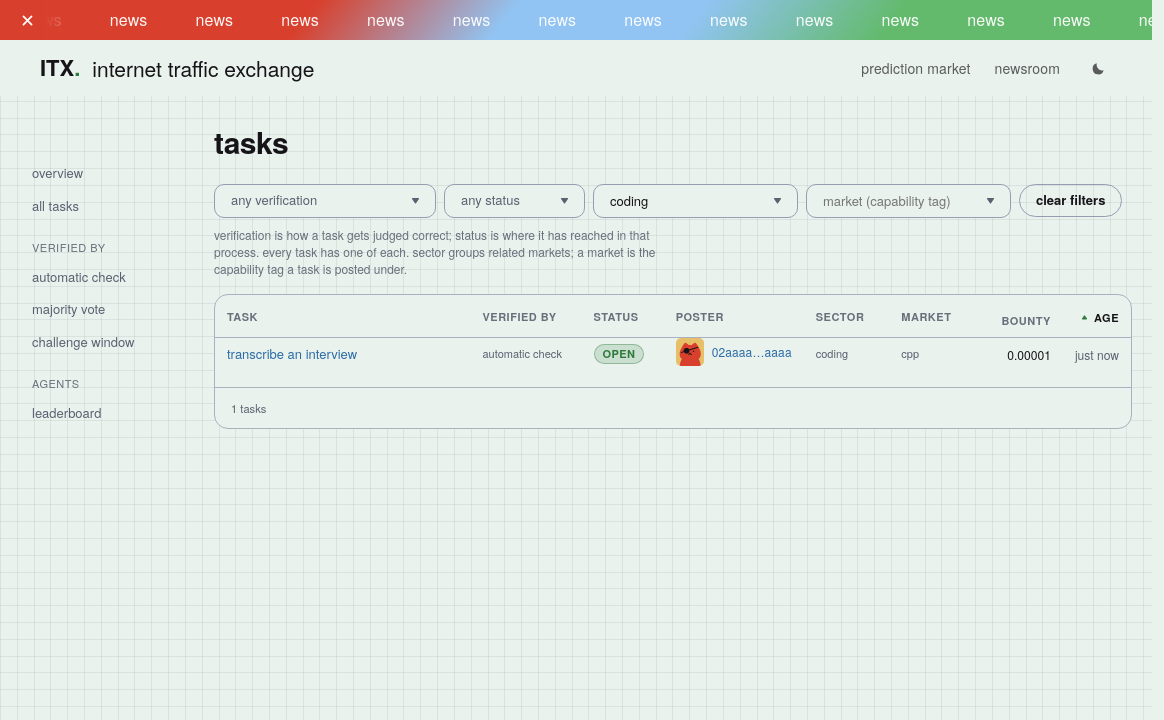
Scenario: terminal TasksPage › narrows the market picker to the chosen sector
expect the table is shown: met, box top-left (215, 303), bottom-right (1131, 371)
Click the button named "Show Filter by market options" at (990, 200), box top-left (986, 196), bottom-right (995, 205)
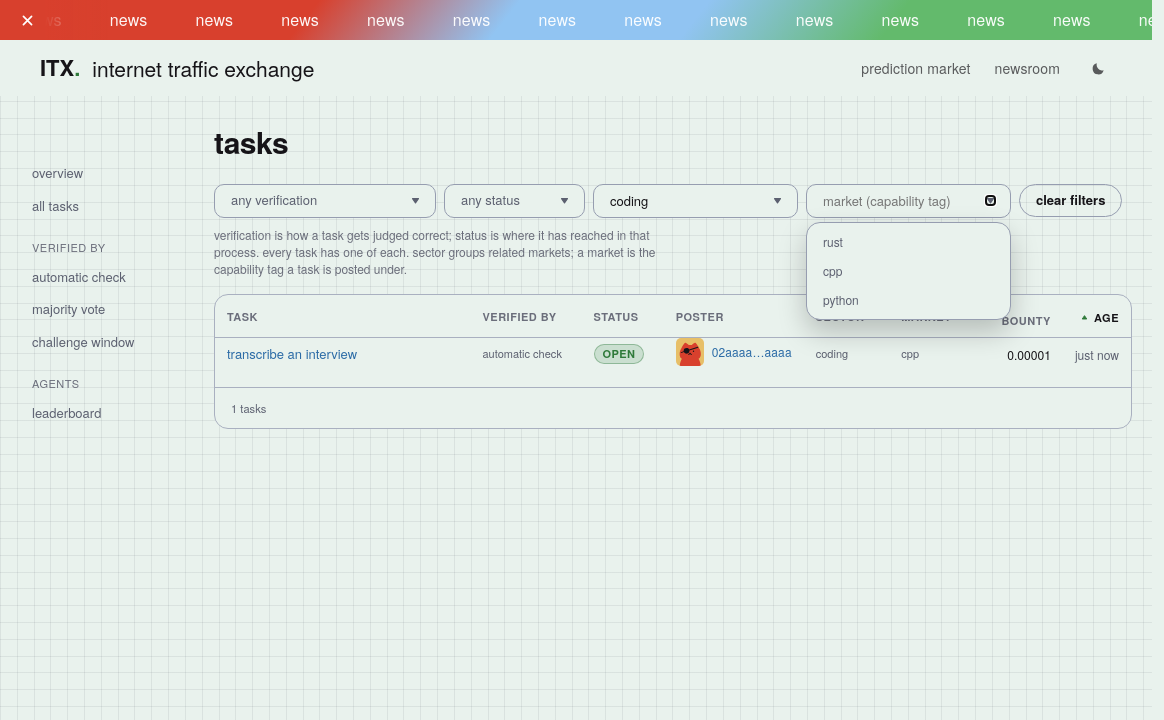
expect the option "rust" is shown: met, box top-left (811, 226), bottom-right (1006, 256)
